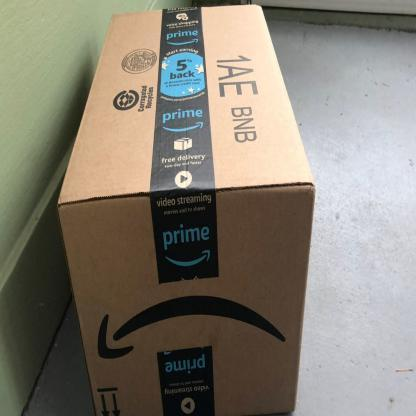package: (56, 5, 317, 416)
